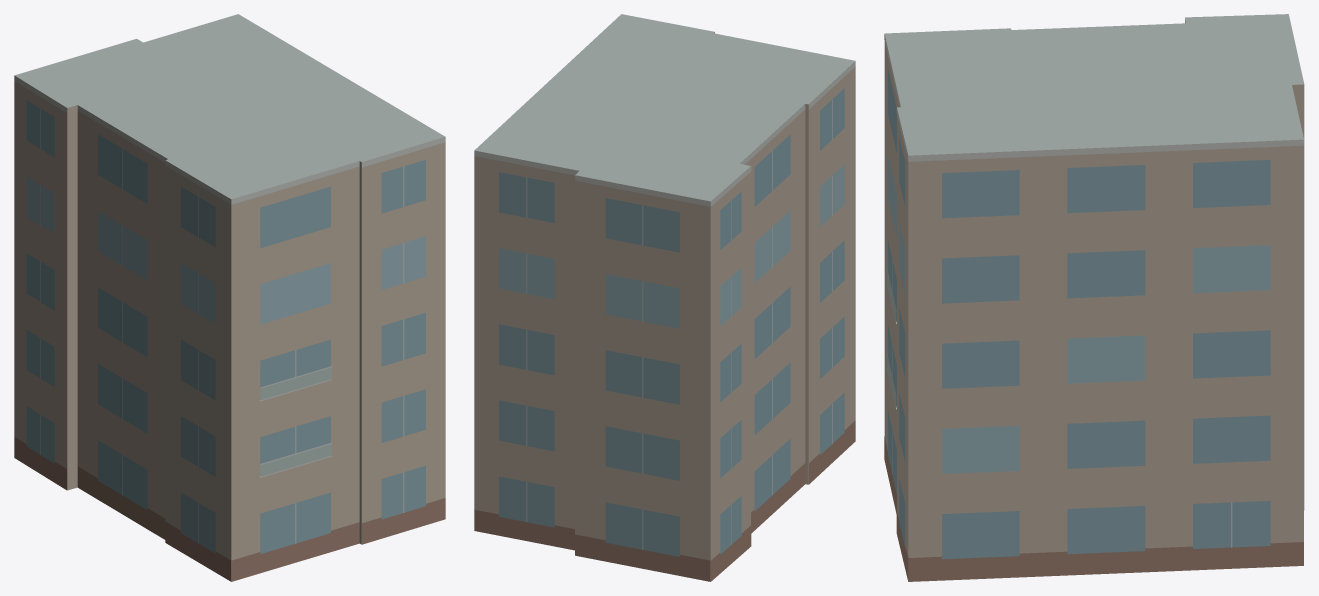
The model's file is survey-upis-32640691.glb.
3 renders of one model, left to right at view 1: azimuth 30°, elevation 25°; view 2: azimuth 150°, elevation 25°; view 3: azimuth 270°, elevation 25°, orthographic. The views are drawn at different scales.
Visible parts, largest first — view 1: survey-upis-32640691.tmp; view 2: survey-upis-32640691.tmp; view 3: survey-upis-32640691.tmp.
Part boxes in pixels (<box>): survey-upis-32640691.tmp: <box>14,14,445,581</box>; survey-upis-32640691.tmp: <box>474,14,855,581</box>; survey-upis-32640691.tmp: <box>884,14,1304,581</box>.
Bounding box in the file's own units: 12.2 × 17.1 × 15.28.
